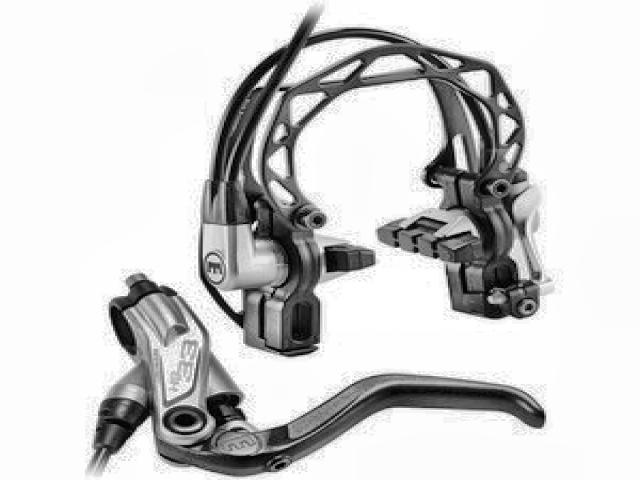rim_brake: (196, 26, 548, 356)
